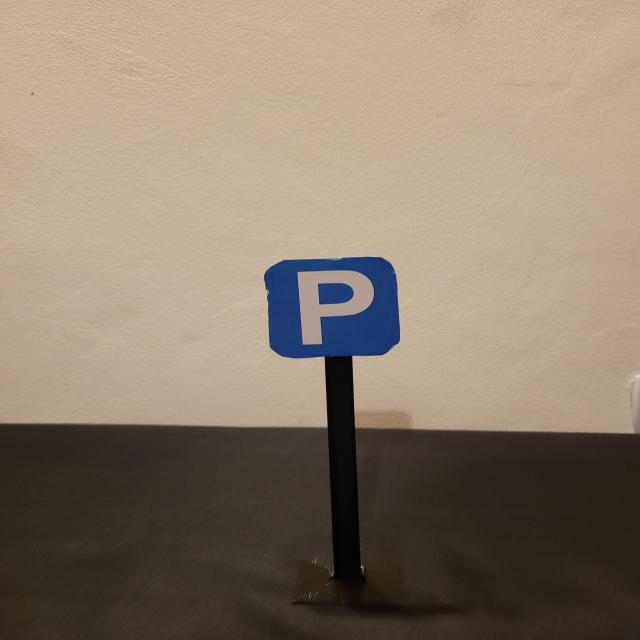parking: (264, 255, 401, 359)
